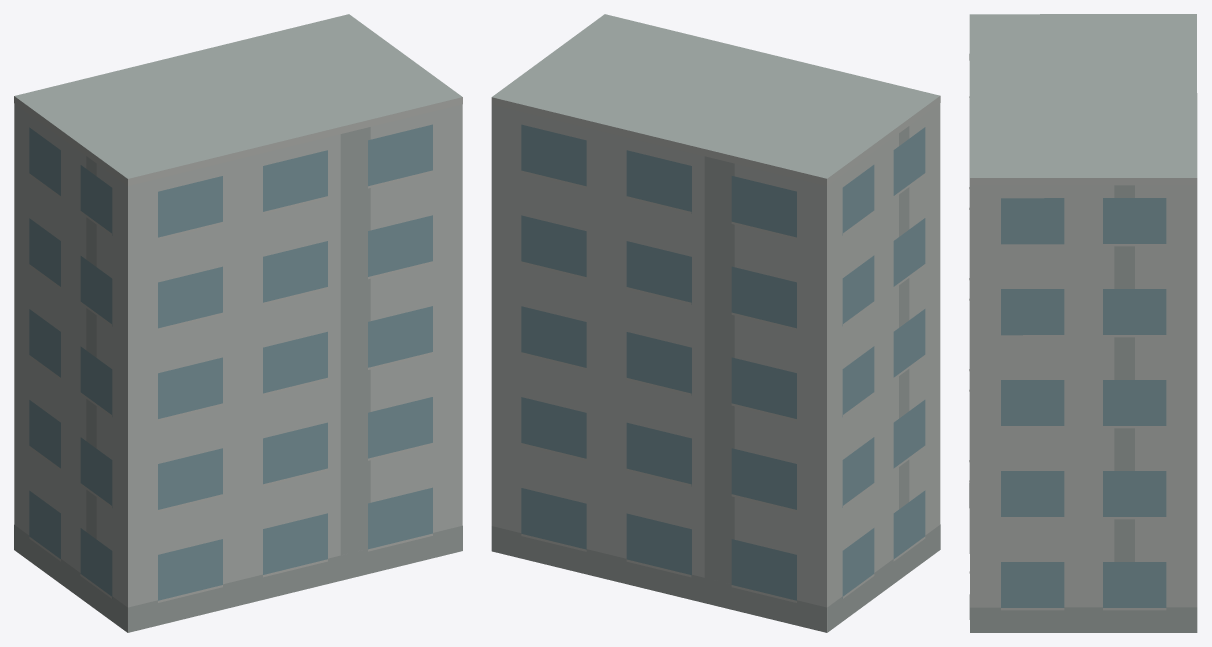
File: survey-upis-32723786.glb
3 renders of one model, left to right at view 1: azimuth 30°, elevation 25°; view 2: azimuth 150°, elevation 25°; view 3: azimuth 270°, elevation 25°, orthographic.
Visible parts, largest first — view 1: survey-upis-32723786.tmp; view 2: survey-upis-32723786.tmp; view 3: survey-upis-32723786.tmp.
Boxes of the visible parts, left/top/right/bottom form: survey-upis-32723786.tmp: left=14, top=14, right=462, bottom=632; survey-upis-32723786.tmp: left=491, top=14, right=940, bottom=632; survey-upis-32723786.tmp: left=969, top=14, right=1197, bottom=632.
Bounding box in the file's own units: 11.82 × 15.25 × 6.95.
